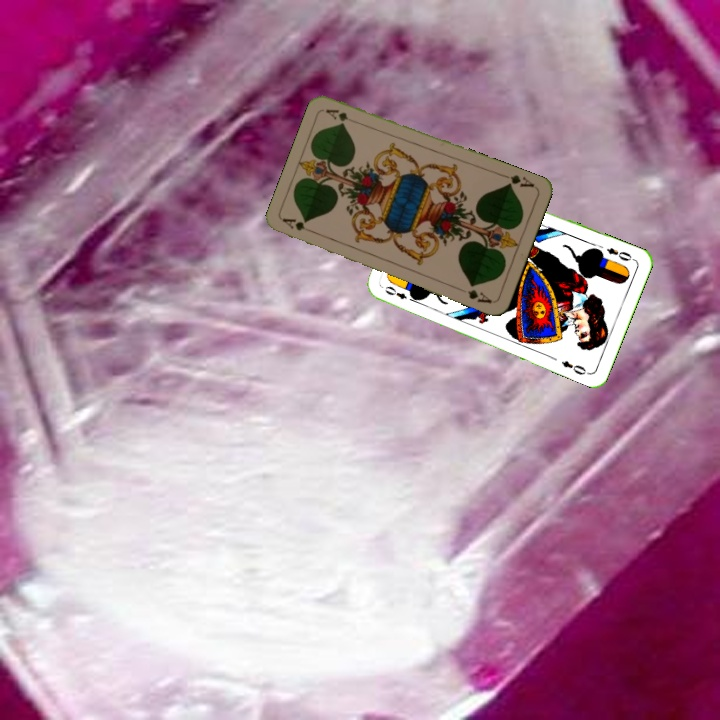EO: (381, 282, 418, 305), (602, 243, 638, 264)
GA: (279, 214, 318, 236), (498, 170, 537, 190)
